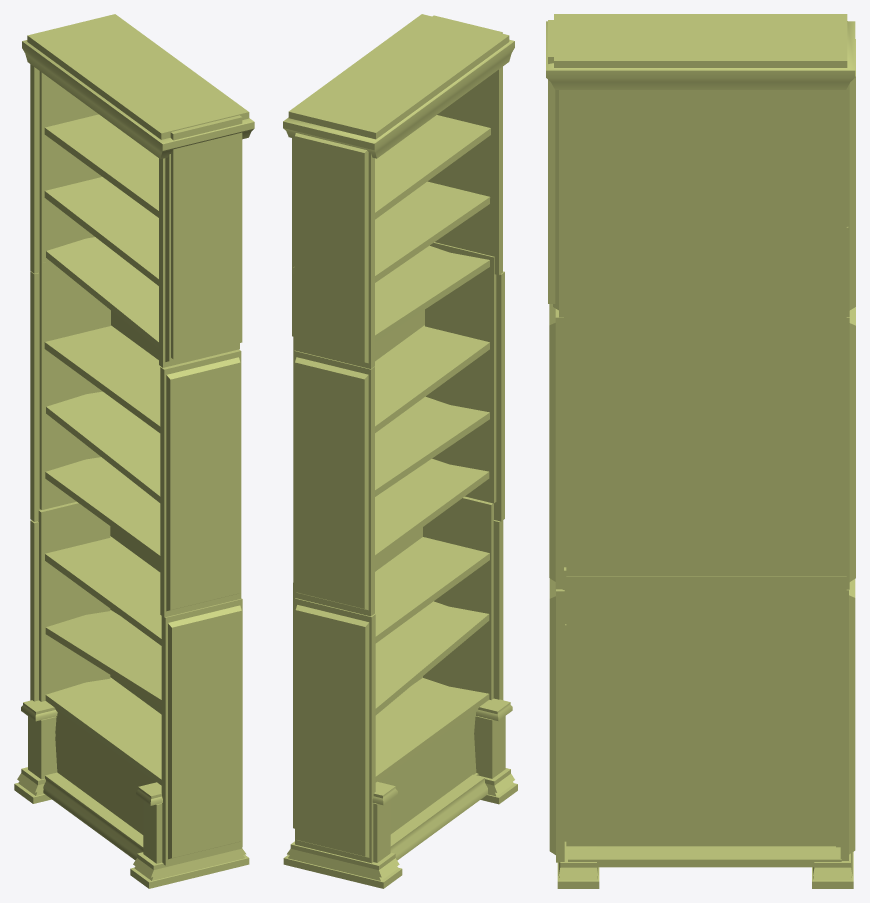
Rendered from Bookcase_03A_Lod0.fbx.
3 renders of one model, left to right at view 1: azimuth 30°, elevation 25°; view 2: azimuth 150°, elevation 25°; view 3: azimuth 270°, elevation 25°, orthographic. The views are drawn at different scales.
Visible parts, largest first — view 1: Bookcase_03A_Lod0; view 2: Bookcase_03A_Lod0; view 3: Bookcase_03A_Lod0.
Part boxes in pixels (x1,y1,x2,y2): Bookcase_03A_Lod0: (14,14,254,888); Bookcase_03A_Lod0: (283,14,517,888); Bookcase_03A_Lod0: (546,14,855,888).
Bounding box in the file's own units: 67.05 × 482 × 164.
